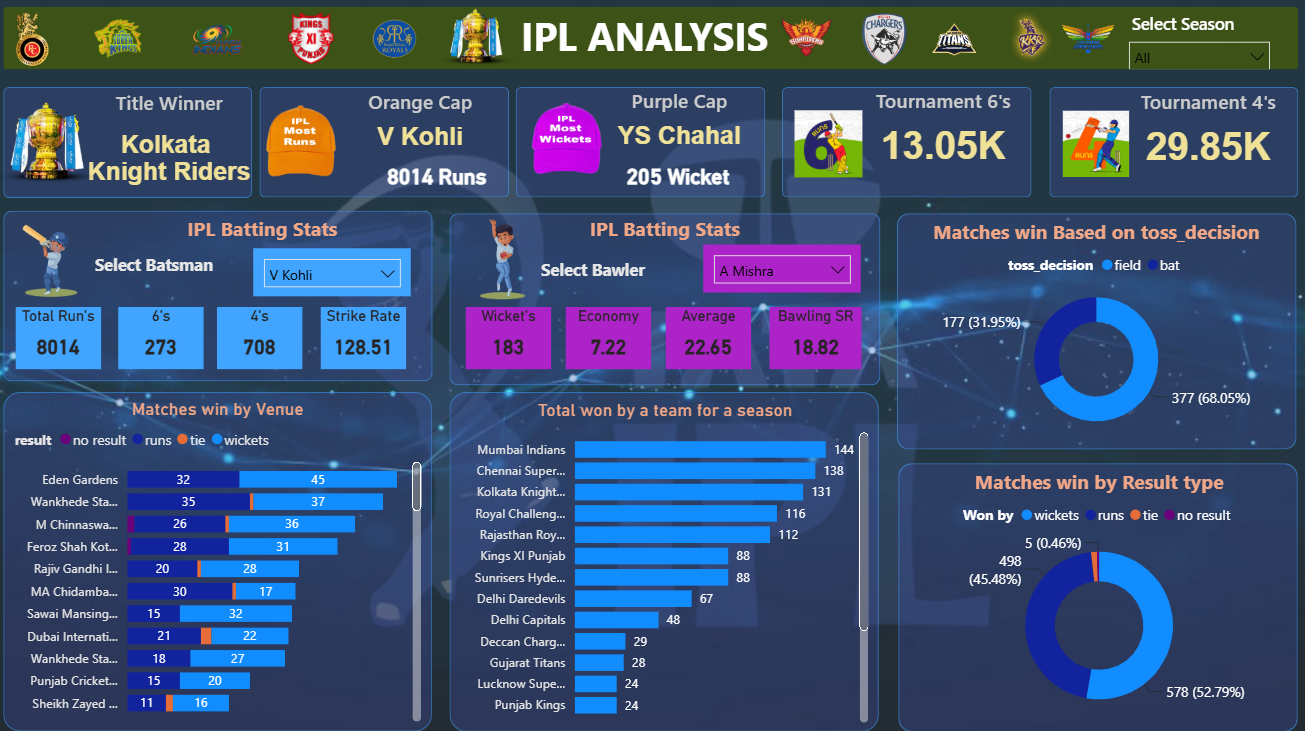

This screenshot's page, from the dashboard's own definition file:
{"tool":"powerbi","page":{"name":"Page 1","canvas":[1280,720],"ordinal":0},"visuals":[{"type":"shape","box":[15.1,9.6,1250.1,60.4],"z":0},{"type":"textbox","box":[510.5,6.9,256.6,64.5],"z":1000},{"type":"slicer","fields":{"Values":["Calender Table.Year"]},"box":[1092.3,9.6,156.4,60.4],"z":2000},{"type":"shape","box":[15.1,86.4,240.1,107],"z":3000},{"type":"card","title":"Title Winner","fields":{"Values":["matches.Title winner"]},"box":[87.8,89.2,175.6,105.7],"z":4000},{"type":"shape","box":[263.3,86.7,240.8,106.7],"z":5000},{"type":"shape","box":[510.8,86.7,240.8,106.7],"z":6000},{"type":"shape","box":[767.5,86.7,240.8,106.7],"z":7000},{"type":"shape","box":[1025,86.7,240,106.7],"z":8000},{"type":"card","title":"Orange Cap","fields":{"Values":["Min(deliveries.batter)"]},"box":[331.4,88.6,172.9,68.6],"z":9000},{"type":"card","title":"Orange Cap","fields":{"Values":["deliveries.Batter Runs"]},"box":[364.3,151.4,140,42.9],"z":10000},{"type":"card","title":"Purple Cap","fields":{"Values":["Min(deliveries.bowler)"]},"box":[581.5,86.9,173.7,70],"z":11000},{"type":"shape","box":[15.1,205.8,414.4,164.7],"z":12000},{"type":"card","title":"Purple Cap","fields":{"Values":["deliveries.Baller wicket"]},"box":[581.4,151.4,171.4,42.9],"z":13000},{"type":"card","title":"Tournament 6''s","fields":{"Values":["CountNonNull(deliveries.batsman_runs)"]},"box":[837.1,87.1,171.4,85.7],"z":14000},{"type":"card","title":"Tournament 4''s","fields":{"Values":["CountNonNull(deliveries.batsman_runs)"]},"box":[1092.9,88.6,171.4,85.7],"z":15000},{"type":"shape","box":[446,208.6,415.8,166],"z":16000},{"type":"slicer","fields":{"Values":["deliveries.batter"]},"box":[256.6,242.9,152.3,46.7],"z":17000},{"type":"card","title":"Total Run''s","fields":{"Values":["Sum(deliveries.batsman_runs)"]},"box":[27.4,299.1,82,60.4],"z":18000},{"type":"card","title":"6''s","fields":{"Values":["CountNonNull(deliveries.batsman_runs)"]},"box":[126.2,299.1,82.3,60.4],"z":19000},{"type":"card","title":"4''s","fields":{"Values":["CountNonNull(deliveries.batsman_runs)"]},"box":[222,299.2,82,60.3],"z":20000},{"type":"card","title":"Strike Rate","fields":{"Values":["deliveries.strike rate for batsman"]},"box":[322.5,299.1,82.3,60.4],"z":21000},{"type":"textbox","box":[98.8,242.9,137.2,37],"z":22000},{"type":"textbox","box":[167.4,205.8,196.2,37],"z":23000},{"type":"slicer","fields":{"Values":["deliveries.bowler"]},"box":[691.6,238.8,152.3,46.7],"z":24000},{"type":"card","title":"Wicket''s","fields":{"Values":["Sum(deliveries.is_wicket)"]},"box":[462.4,299.1,82.3,60.4],"z":25000},{"type":"card","title":"Economy","fields":{"Values":["deliveries.Economy"]},"box":[558.5,299.1,82.3,60.4],"z":26000},{"type":"card","title":"Average","fields":{"Values":["deliveries.Average by Bowler"]},"box":[654.5,299.1,82.3,60.4],"z":27000},{"type":"card","title":"Bawling SR","fields":{"Values":["deliveries.Bawling SR"]},"box":[754.7,299.1,89.2,60.4],"z":28000},{"type":"textbox","box":[529.7,247,137.2,37],"z":29000},{"type":"textbox","box":[565.4,205.8,177,37],"z":30000},{"type":"shape","box":[878.2,208.6,385.6,228],"z":31000},{"type":"donutChart","title":"Matches win Based on toss_decision","fields":{"Y":["matches.Matches own on toss decision"],"Category":["matches.toss_decision"]},"box":[883.3,214,375.3,218],"z":32000},{"type":"shape","box":[879.6,450.1,385.6,259.3],"z":33000},{"type":"donutChart","title":"Matches win by Result type","fields":{"Y":["CountNonNull(matches.id)"],"Category":["matches.result"]},"box":[885.3,454.7,376,249.3],"z":34000},{"type":"shape","box":[15.4,381.5,413.8,327.7],"z":35000},{"type":"barChart","title":"Matches win by Venue","fields":{"Category":["matches.venue"],"Y":["CountNonNull(matches.id)"],"Series":["matches.result"]},"box":[21.2,387.1,402.4,317.1],"z":36000},{"type":"shape","box":[446,381.5,414.4,328],"z":37000},{"type":"barChart","title":"Total won by a team for a season","fields":{"Category":["matches.winner"],"Y":["CountNonNull(matches.winner)"]},"box":[454.2,388.3,402.1,317],"z":38000},{"type":"image","box":[0,78.2,120,126.5],"z":39000},{"type":"image","box":[261.8,97.7,83.2,83.2],"z":40000},{"type":"image","box":[517.6,95.3,84.5,83.2],"z":41000},{"type":"image","box":[774.6,98.5,75.4,85.4],"z":42000},{"type":"image","box":[1033.1,104.6,75.4,73.8],"z":43000},{"type":"image","box":[429.2,195,135.8,115],"z":44000},{"type":"image","box":[0,187.5,121.7,135],"z":45000},{"type":"image","box":[15,9.5,58.2,61.8],"z":46000},{"type":"image","box":[95.6,10,62.2,61.1],"z":47000},{"type":"image","box":[193.3,9.2,58.3,60],"z":48000},{"type":"image","box":[281.7,10,63.3,60],"z":49000},{"type":"image","box":[362.5,10.8,60.8,59.2],"z":50000},{"type":"image","box":[429.2,0,88.3,78.3],"z":51000},{"type":"image","box":[761.4,9.3,59.3,58.6],"z":52000},{"type":"image","box":[837.1,11.4,57.9,59.3],"z":53000},{"type":"image","box":[907.1,10.7,52.9,60],"z":54000},{"type":"image","box":[975,8.6,66.4,62.1],"z":55000},{"type":"image","box":[1032.9,10.5,60,58.6],"z":55001}]}

Visuals, with their boxes in screenshot pixels (x1, y1, x2, y2), scaled from the page's 1280x720 canvas onto the 1305x731 screenshot:
shape: x1=15 y1=10 x2=1290 y2=71
textbox: x1=520 y1=7 x2=782 y2=72
slicer - Calender Table.Year: x1=1114 y1=10 x2=1273 y2=71
shape: x1=15 y1=88 x2=260 y2=196
"Title Winner" card: x1=90 y1=91 x2=269 y2=198
shape: x1=268 y1=88 x2=514 y2=196
shape: x1=521 y1=88 x2=766 y2=196
shape: x1=782 y1=88 x2=1028 y2=196
shape: x1=1045 y1=88 x2=1290 y2=196
"Orange Cap" card: x1=338 y1=90 x2=514 y2=160
"Orange Cap" card: x1=371 y1=154 x2=514 y2=197
"Purple Cap" card: x1=593 y1=88 x2=770 y2=159
shape: x1=15 y1=209 x2=438 y2=376
"Purple Cap" card: x1=593 y1=154 x2=768 y2=197
"Tournament 6''s" card: x1=853 y1=88 x2=1028 y2=175
"Tournament 4''s" card: x1=1114 y1=90 x2=1289 y2=177
shape: x1=455 y1=212 x2=879 y2=380
slicer - deliveries.batter: x1=262 y1=247 x2=417 y2=294
"Total Run''s" card: x1=28 y1=304 x2=112 y2=365
"6''s" card: x1=129 y1=304 x2=213 y2=365
"4''s" card: x1=226 y1=304 x2=310 y2=365
"Strike Rate" card: x1=329 y1=304 x2=413 y2=365
textbox: x1=101 y1=247 x2=241 y2=284
textbox: x1=171 y1=209 x2=371 y2=247
slicer - deliveries.bowler: x1=705 y1=242 x2=860 y2=290
"Wicket''s" card: x1=471 y1=304 x2=555 y2=365
"Economy" card: x1=569 y1=304 x2=653 y2=365
"Average" card: x1=667 y1=304 x2=751 y2=365
"Bawling SR" card: x1=769 y1=304 x2=860 y2=365
textbox: x1=540 y1=251 x2=680 y2=288
textbox: x1=576 y1=209 x2=757 y2=247
shape: x1=895 y1=212 x2=1288 y2=443
"Matches win Based on toss_decision" donutChart: x1=901 y1=217 x2=1283 y2=439
shape: x1=897 y1=457 x2=1290 y2=720
"Matches win by Result type" donutChart: x1=903 y1=462 x2=1286 y2=715
shape: x1=16 y1=387 x2=438 y2=720
"Matches win by Venue" barChart: x1=22 y1=393 x2=432 y2=715
shape: x1=455 y1=387 x2=877 y2=720
"Total won by a team for a season" barChart: x1=463 y1=394 x2=873 y2=716
image: x1=0 y1=79 x2=122 y2=208
image: x1=267 y1=99 x2=352 y2=184
image: x1=528 y1=97 x2=614 y2=181
image: x1=790 y1=100 x2=867 y2=187
image: x1=1053 y1=106 x2=1130 y2=181
image: x1=438 y1=198 x2=576 y2=315
image: x1=0 y1=190 x2=124 y2=327
image: x1=15 y1=10 x2=75 y2=72
image: x1=97 y1=10 x2=161 y2=72
image: x1=197 y1=9 x2=257 y2=70
image: x1=287 y1=10 x2=352 y2=71
image: x1=370 y1=11 x2=432 y2=71
image: x1=438 y1=0 x2=528 y2=79
image: x1=776 y1=9 x2=837 y2=69
image: x1=853 y1=12 x2=912 y2=72
image: x1=925 y1=11 x2=979 y2=72
image: x1=994 y1=9 x2=1062 y2=72
image: x1=1053 y1=11 x2=1114 y2=70
